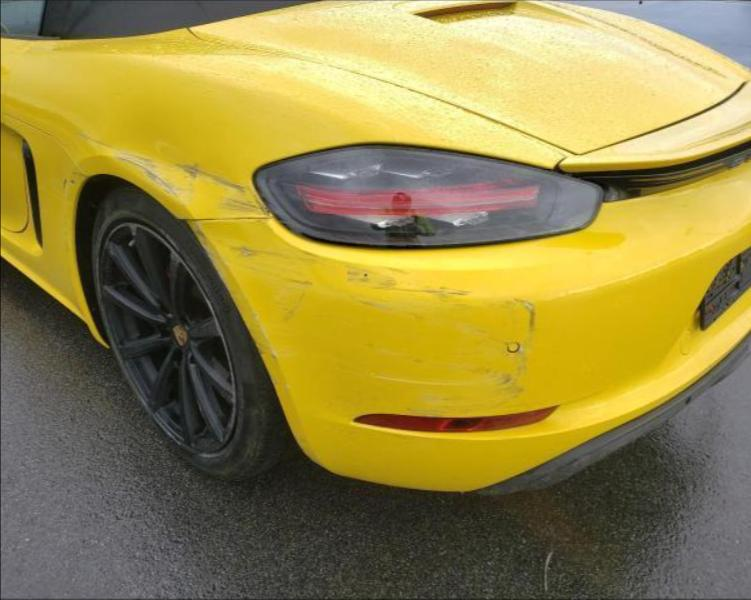Scratch: (60, 130, 538, 418)
